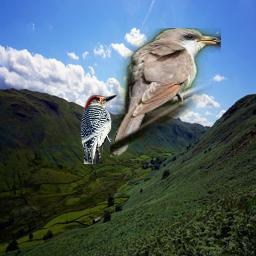Cuckoo: (110, 28, 221, 158)
Woodpecker: (79, 91, 119, 164)
